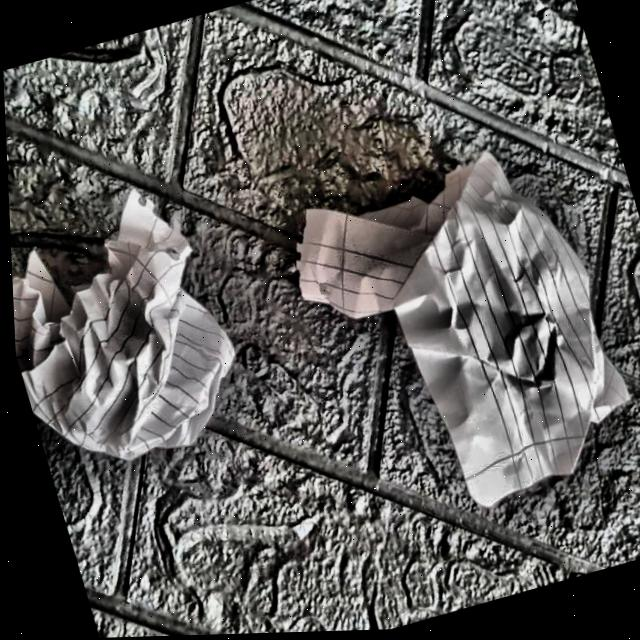paper: (279, 124, 640, 530), (6, 165, 264, 492)
